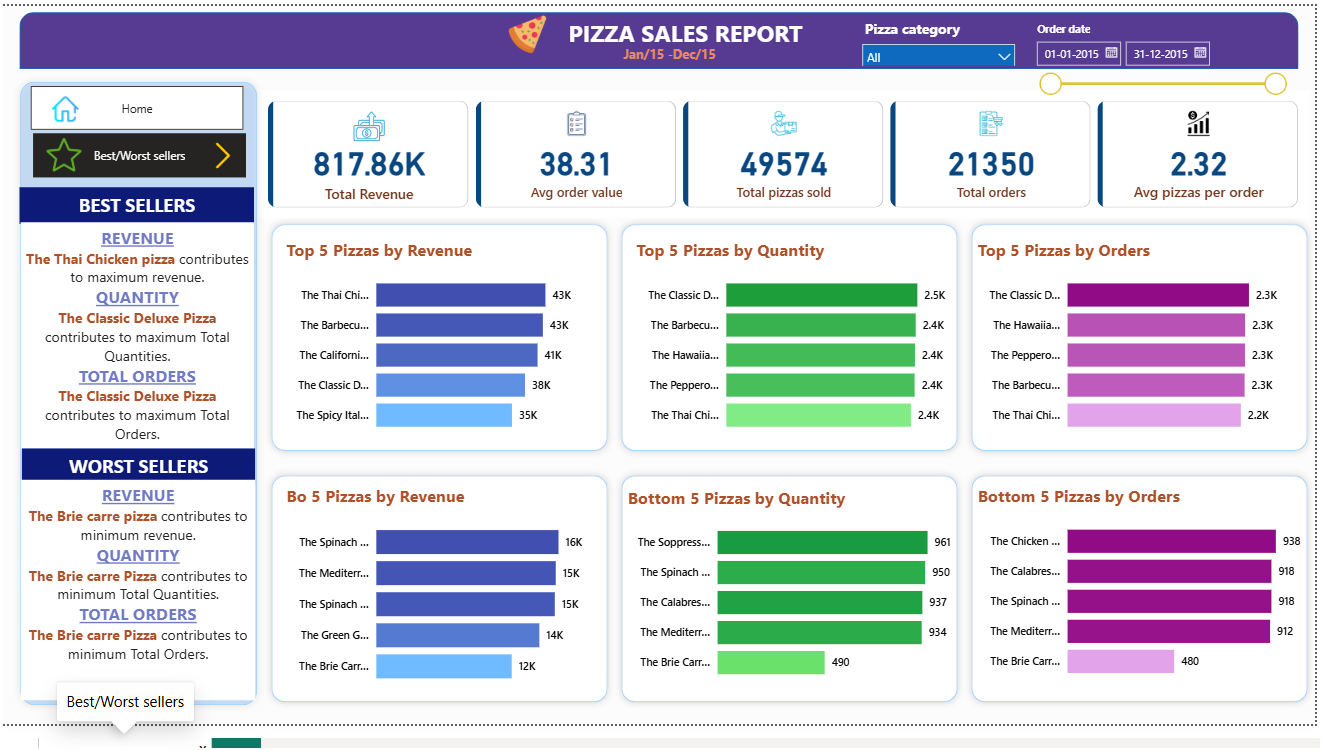

What the dashboard file says about the page in this screenshot:
{"tool":"powerbi","page":{"name":"Best/Worst sellers","canvas":[1500,820],"ordinal":1},"visuals":[{"type":"cardVisual","fields":{"Data":["pizza_sales_csv.Total Revenue","pizza_sales_csv.Avg order value","pizza_sales_csv.Total pizzas sold","pizza_sales_csv.Total orders","pizza_sales_csv.Avg pizzas per order"]},"box":[286.7,91.7,1213.3,156.7],"z":0},{"type":"shape","box":[20,6.7,1461.7,65],"z":1000},{"type":"textbox","box":[600,7.5,362.5,45],"z":2000},{"type":"textbox","box":[675,40,177.5,37.5],"z":3000},{"type":"image","box":[562.5,10,75,45],"z":4000},{"type":"shape","box":[300,241.7,400,275],"z":5000},{"type":"shape","box":[13.3,78.3,286.7,728.3],"z":6000},{"type":"textbox","box":[20,206.7,268.3,41.7],"z":7000},{"type":"textbox","box":[21.7,246.7,266.7,258.3],"z":8000},{"type":"textbox","box":[23.3,505,266.7,41.7],"z":9000},{"type":"textbox","box":[21.7,541.7,268.3,251.7],"z":10000},{"type":"slicer","fields":{"Values":["pizza_sales_csv.pizza_category"]},"box":[973.3,10,195,58.3],"z":11000},{"type":"slicer","fields":{"Values":["pizza_sales_csv.order_date"]},"box":[1170,13.3,306.7,96.7],"z":12000},{"type":"shape","box":[700,241.7,400,275],"z":13000},{"type":"shape","box":[1100,241.7,400,275],"z":14000},{"type":"shape","box":[300,528.3,400,275],"z":15000},{"type":"shape","box":[700,528.3,400,275],"z":16000},{"type":"shape","box":[1100,528.3,400,275],"z":17000},{"type":"barChart","title":"Top 5 Pizzas by Revenue","fields":{"Category":["pizza_sales_csv.pizza_name"],"Y":["pizza_sales_csv.Total Revenue"]},"box":[320,265,380,235],"z":18000},{"type":"barChart","title":"Bo 5 Pizzas by Revenue","fields":{"Category":["pizza_sales_csv.pizza_name"],"Y":["pizza_sales_csv.Total Revenue"]},"box":[320,546.7,380,241.7],"z":19000},{"type":"barChart","title":"Top 5 Pizzas by Quantity","fields":{"Category":["pizza_sales_csv.pizza_name"],"Y":["pizza_sales_csv.Total pizzas sold"]},"box":[720,265,380,235],"z":19001},{"type":"barChart","title":"Bottom 5 Pizzas by Quantity","fields":{"Category":["pizza_sales_csv.pizza_name"],"Y":["pizza_sales_csv.Total pizzas sold"]},"box":[710,548.3,380,235],"z":19002},{"type":"barChart","title":"Top 5 Pizzas by Orders","fields":{"Category":["pizza_sales_csv.pizza_name"],"Y":["pizza_sales_csv.Total orders"]},"box":[1110,265,380,235],"z":19003},{"type":"barChart","title":"Bottom 5 Pizzas by Orders","fields":{"Category":["pizza_sales_csv.pizza_name"],"Y":["pizza_sales_csv.Total orders"]},"box":[1110,546.7,380,235],"z":19004},{"type":"pageNavigator","box":[35,145,243.3,50],"z":19005},{"type":"pageNavigator","box":[33.3,91.7,243.3,50],"z":19006},{"type":"image","box":[228.3,155,48.3,30],"z":19007},{"type":"image","box":[56.7,98.3,30,38.3],"z":19008},{"type":"image","box":[43.3,150,56.7,40],"z":19009}]}

Visuals, with their boxes on the page's 1500x820 design canvas (x1, y1, x2, y2). These are canvas units, not pixel positions in the 1322x750 screenshot, which may show the page scaled, cropped or inside an application window:
cardVisual - pizza_sales_csv.Total Revenue x pizza_sales_csv.Avg order value: x1=287, y1=92, x2=1500, y2=248
shape: x1=20, y1=7, x2=1482, y2=72
textbox: x1=600, y1=8, x2=962, y2=52
textbox: x1=675, y1=40, x2=852, y2=78
image: x1=562, y1=10, x2=638, y2=55
shape: x1=300, y1=242, x2=700, y2=517
shape: x1=13, y1=78, x2=300, y2=807
textbox: x1=20, y1=207, x2=288, y2=248
textbox: x1=22, y1=247, x2=288, y2=505
textbox: x1=23, y1=505, x2=290, y2=547
textbox: x1=22, y1=542, x2=290, y2=793
slicer - pizza_sales_csv.pizza_category: x1=973, y1=10, x2=1168, y2=68
slicer - pizza_sales_csv.order_date: x1=1170, y1=13, x2=1477, y2=110
shape: x1=700, y1=242, x2=1100, y2=517
shape: x1=1100, y1=242, x2=1500, y2=517
shape: x1=300, y1=528, x2=700, y2=803
shape: x1=700, y1=528, x2=1100, y2=803
shape: x1=1100, y1=528, x2=1500, y2=803
"Top 5 Pizzas by Revenue" barChart: x1=320, y1=265, x2=700, y2=500
"Bo 5 Pizzas by Revenue" barChart: x1=320, y1=547, x2=700, y2=788
"Top 5 Pizzas by Quantity" barChart: x1=720, y1=265, x2=1100, y2=500
"Bottom 5 Pizzas by Quantity" barChart: x1=710, y1=548, x2=1090, y2=783
"Top 5 Pizzas by Orders" barChart: x1=1110, y1=265, x2=1490, y2=500
"Bottom 5 Pizzas by Orders" barChart: x1=1110, y1=547, x2=1490, y2=782
pageNavigator: x1=35, y1=145, x2=278, y2=195
pageNavigator: x1=33, y1=92, x2=277, y2=142
image: x1=228, y1=155, x2=277, y2=185
image: x1=57, y1=98, x2=87, y2=137
image: x1=43, y1=150, x2=100, y2=190
